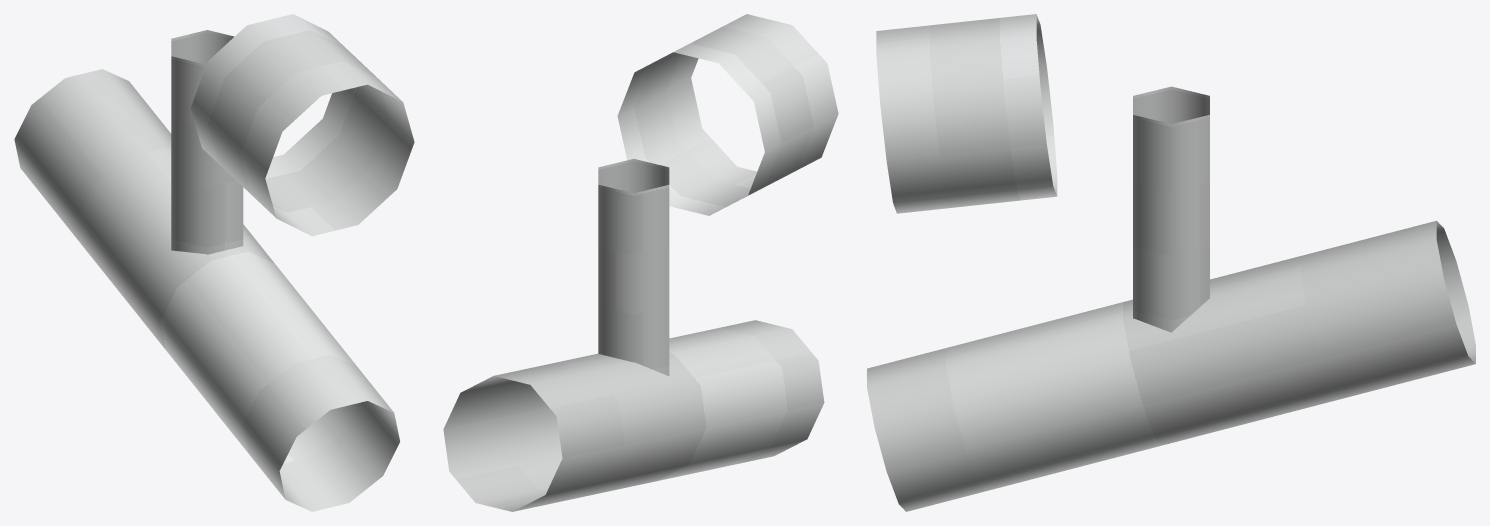
The model's file is trusssignalarm_sloped8_c7.obj.
The picture shows the model from 3 angles, left to right: view 1: azimuth 30°, elevation 25°; view 2: azimuth 150°, elevation 25°; view 3: azimuth 270°, elevation 25°; orthographic projection. The views are drawn at different scales.
Visible parts, largest first — view 1: trusssignalarm_sloped8_c7; view 2: trusssignalarm_sloped8_c7; view 3: trusssignalarm_sloped8_c7.
Part boxes in pixels (x1=…): trusssignalarm_sloped8_c7: x1=14, y1=14, x2=414, y2=511; trusssignalarm_sloped8_c7: x1=443, y1=14, x2=838, y2=511; trusssignalarm_sloped8_c7: x1=867, y1=14, x2=1475, y2=511.
Size of the model in its own units: 0.325 by 0.9222 by 1.07.
